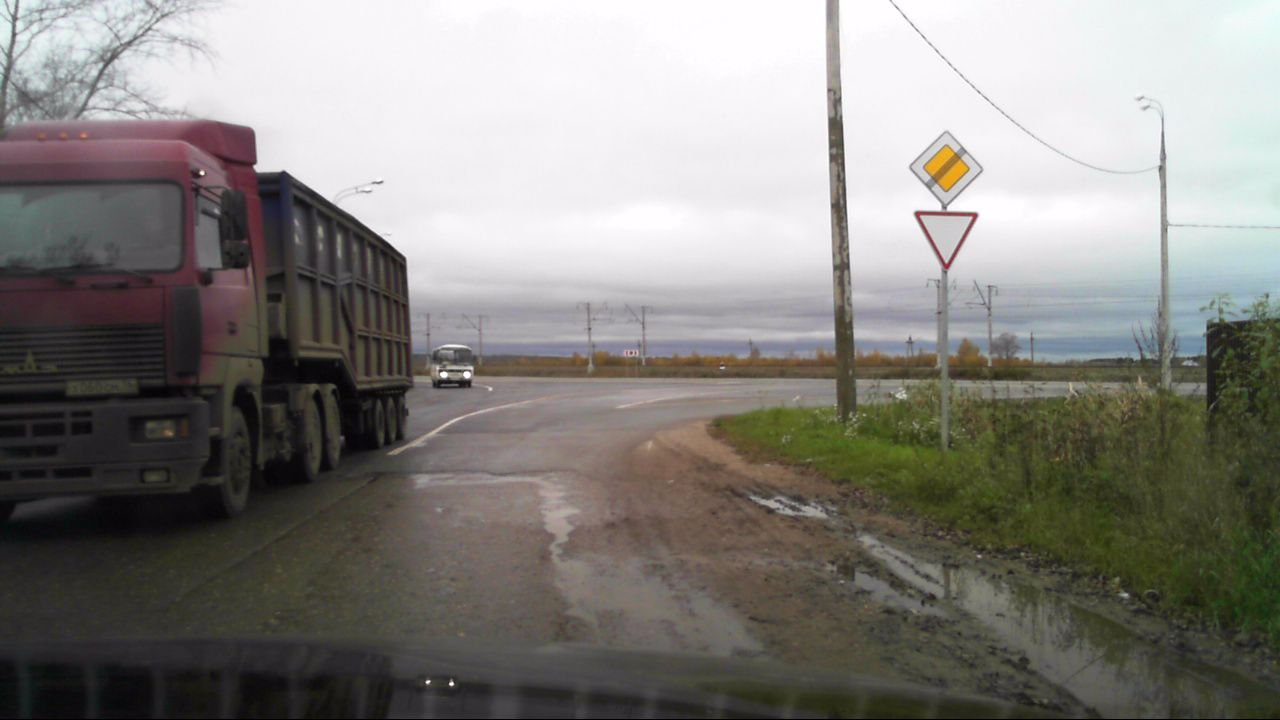main road: (908, 130, 984, 207)
